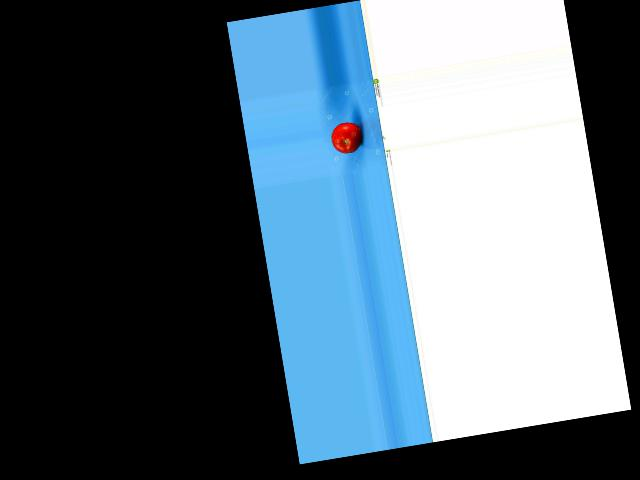tomato: (329, 120, 364, 156)
